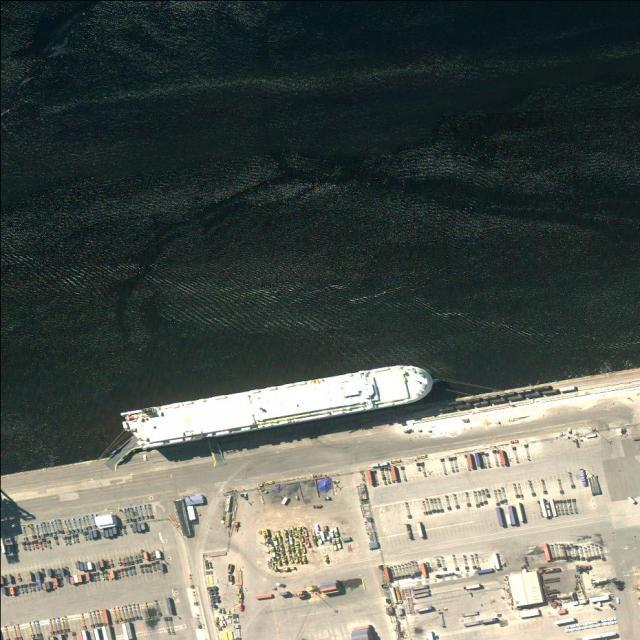RoRo: (112, 356, 441, 456)
